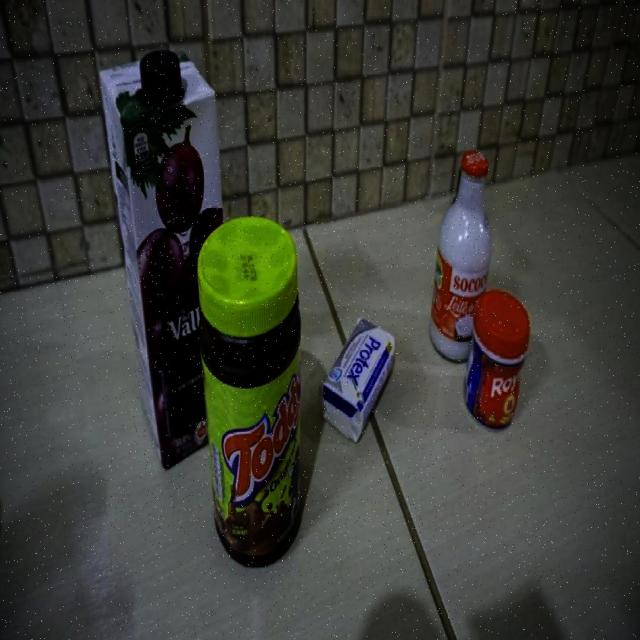ChocolatePowder: (197, 216, 303, 570)
CoconutMilk: (427, 149, 494, 365)
Soap: (322, 319, 395, 440)
Yeast: (463, 289, 530, 432)
